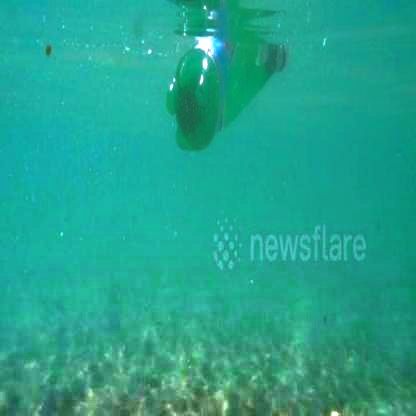pbottle: (161, 22, 292, 158)
